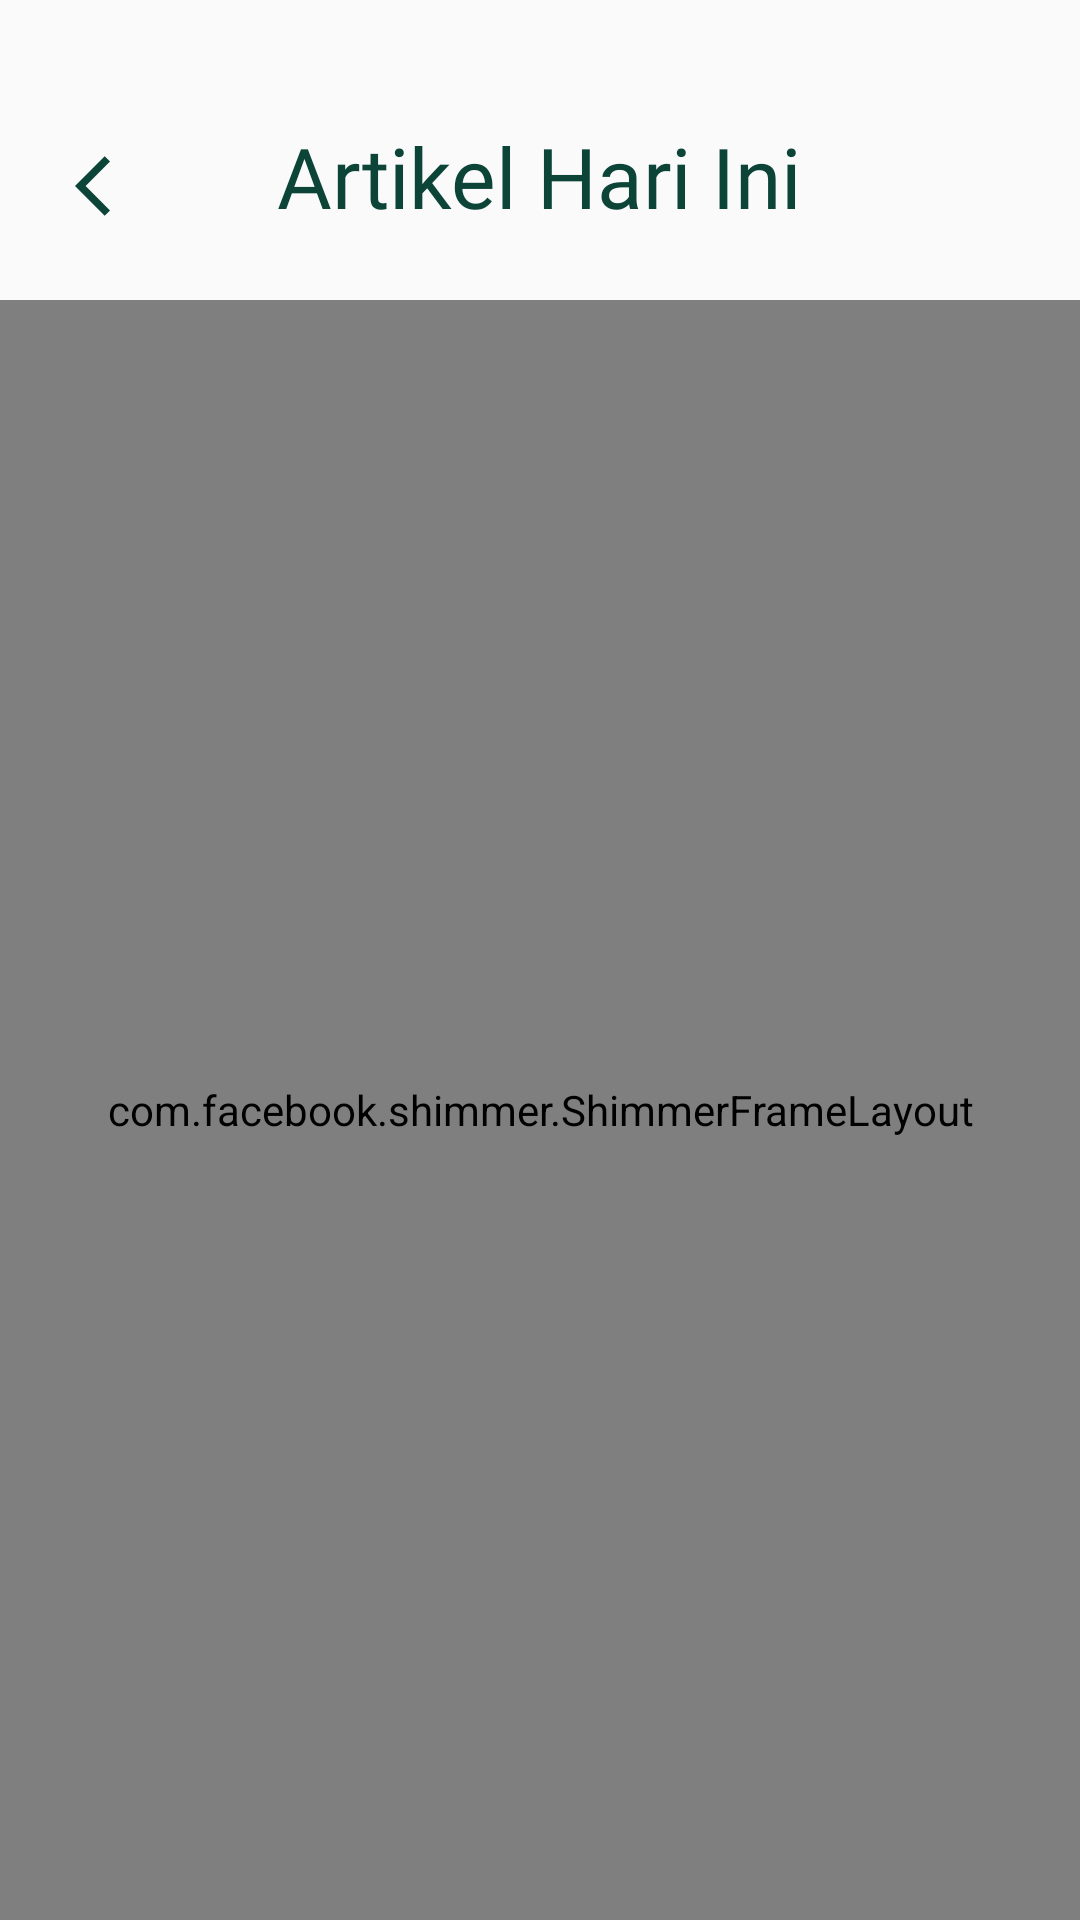

Where to tap for icons on this 1080w x 1920h app screen, as (x=x, y=y):
arrow back: (x=92, y=186)
